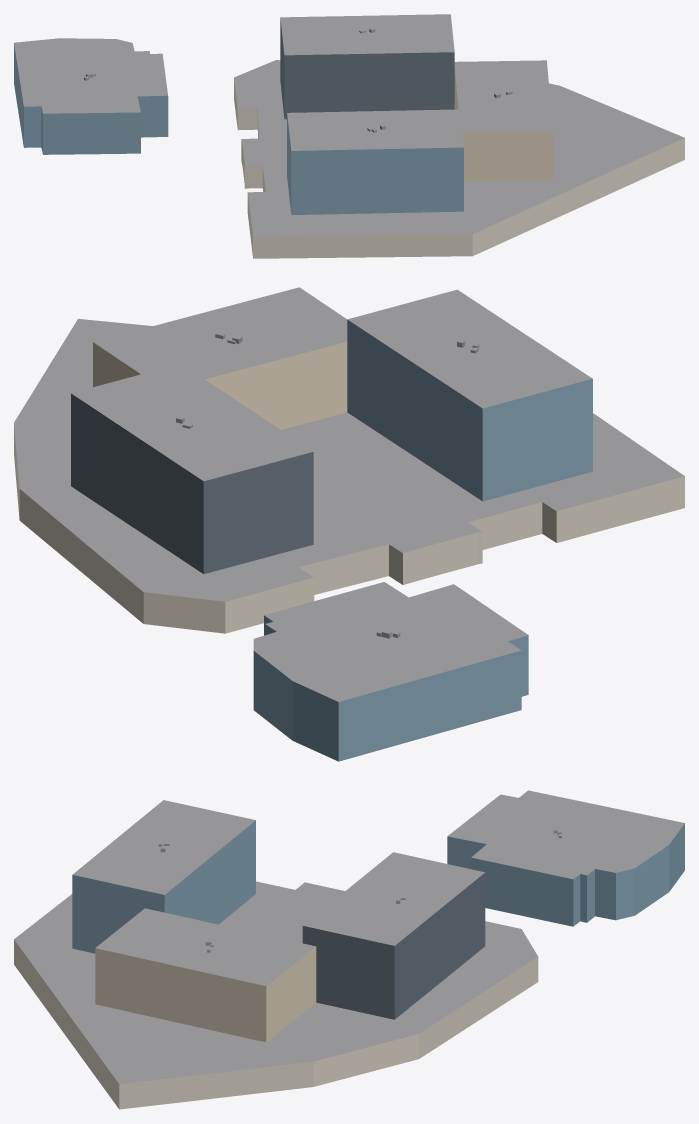
Rendered from building_-2_-1.glb.
3 renders of one model, top to bottom at view 1: azimuth 30°, elevation 25°; view 2: azimuth 150°, elevation 25°; view 3: azimuth 270°, elevation 25°, orthographic. The views are drawn at different scales.
Visible parts, largest first — view 1: roof, glass_blue, concrete_warm, glass_dark, sandstone; view 2: roof, glass_blue, glass_dark, concrete_warm, sandstone; view 3: roof, glass_blue, concrete_warm, glass_dark, sandstone.
Part boxes in pixels (left/top/right/bottom): roof: left=14, top=14, right=684, bottom=236; glass_blue: left=14, top=44, right=463, bottom=214; concrete_warm: left=234, top=79, right=684, bottom=258; glass_dark: left=280, top=18, right=454, bottom=119; sandstone: left=454, top=68, right=553, bottom=181; roof: left=14, top=287, right=684, bottom=701; glass_blue: left=253, top=319, right=592, bottom=761; glass_dark: left=71, top=393, right=313, bottom=573; concrete_warm: left=14, top=425, right=684, bottom=633; sandstone: left=93, top=341, right=347, bottom=429; roof: left=14, top=790, right=684, bottom=1084; glass_blue: left=72, top=820, right=684, bottom=953; concrete_warm: left=14, top=940, right=538, bottom=1109; glass_dark: left=302, top=873, right=485, bottom=1019; sandstone: left=95, top=947, right=316, bottom=1042.
Size of the model in its own units: 264 by 46.71 by 276.
